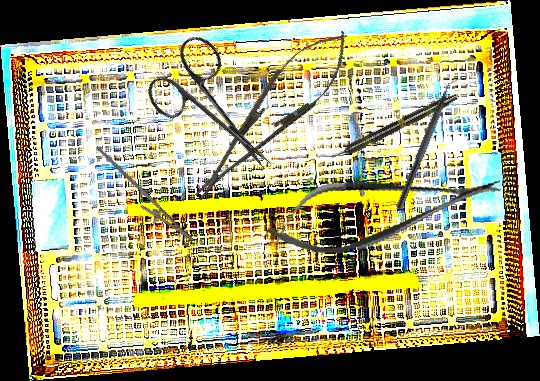Chopper: (395, 70, 464, 215)
Handpiece: (328, 90, 460, 164)
Iris Scissors: (136, 29, 301, 196)
Micro Scissor: (260, 153, 508, 267)
Needle Holder: (178, 15, 364, 215), (79, 145, 204, 250)
